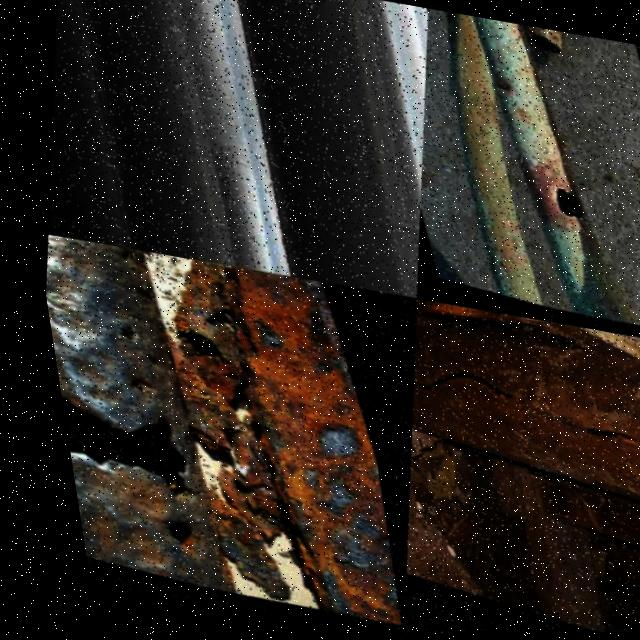crack: (401, 382, 640, 476)
hole: (49, 390, 213, 524), (127, 513, 206, 578), (541, 188, 593, 233), (105, 326, 151, 357), (113, 379, 159, 410), (114, 252, 154, 286), (132, 356, 172, 385), (97, 246, 129, 255)
